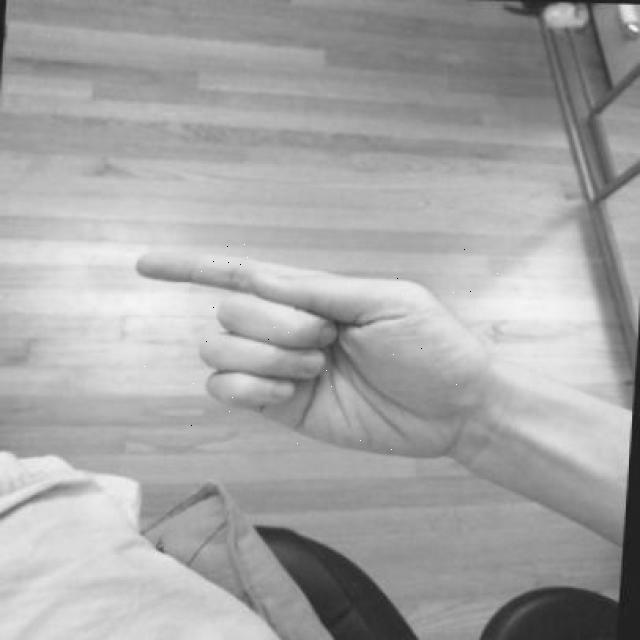G: (119, 243, 508, 470)
